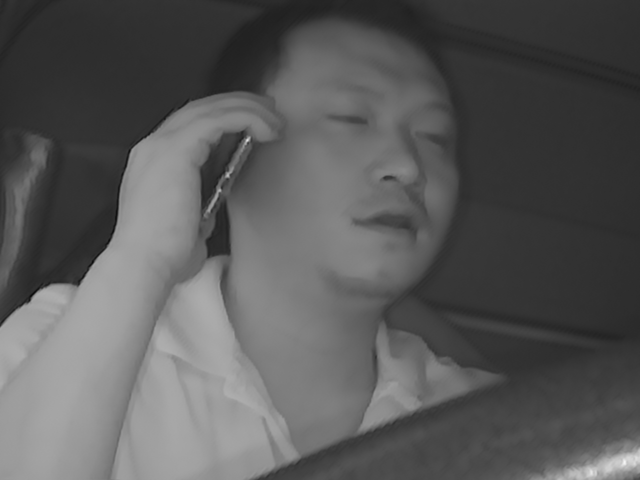hand: (119, 98, 230, 258)
